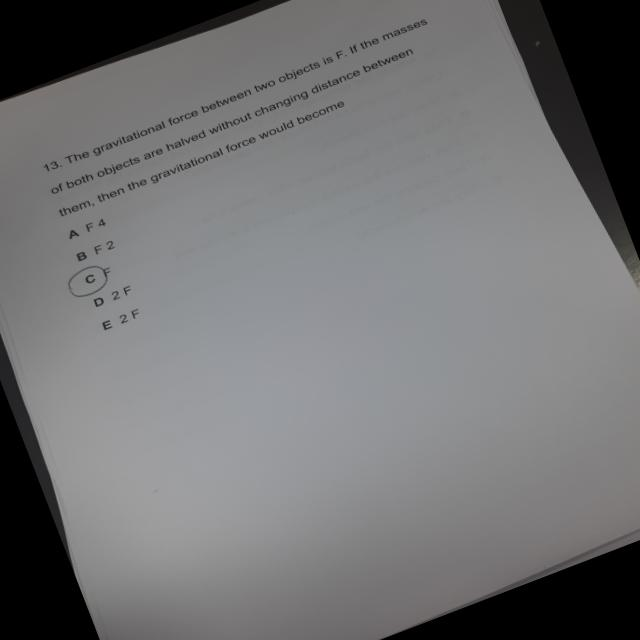C: (61, 261, 116, 304)
